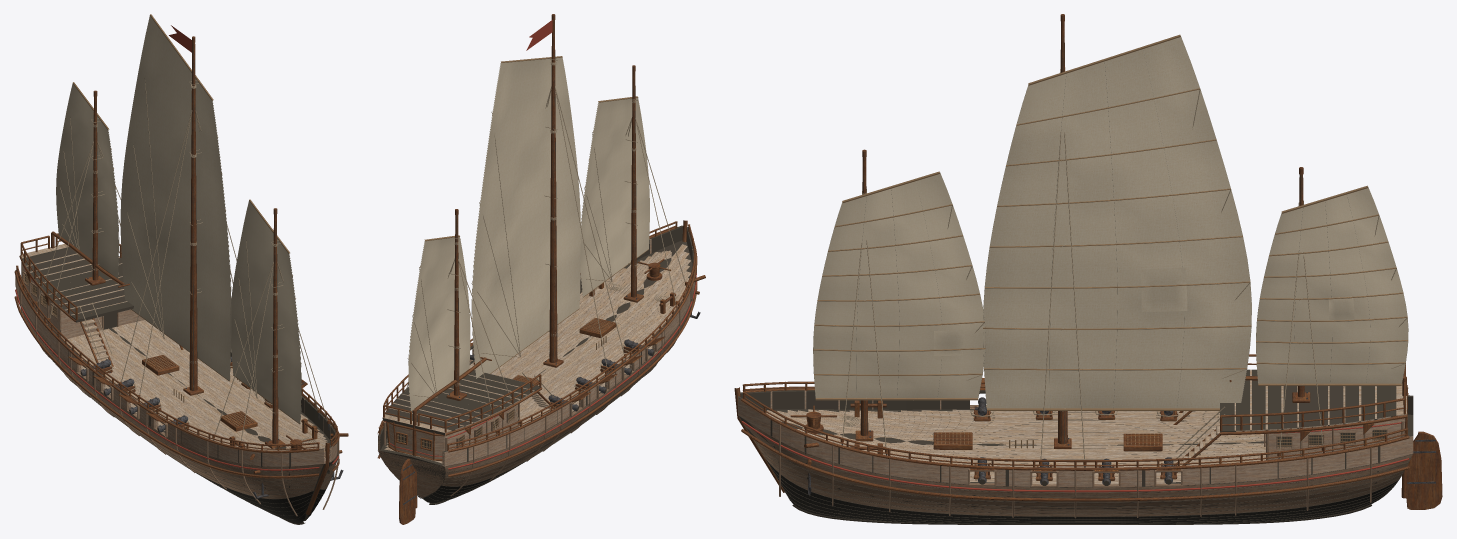
File: fuchuan-lod2.glb
3 renders of one model, left to right at view 1: azimuth 30°, elevation 25°; view 2: azimuth 150°, elevation 25°; view 3: azimuth 270°, elevation 25°, orthographic. The views are drawn at different scales.
Visible parts, largest first — view 1: sail_1, hull, deck, sail_0, sail_2, shadow_deck, deck_fittings, bulwark_rails, mast_timber_1, shadow_hull, sterncastle, mast_timber_0 (+8 smaller); view 2: sail_1, deck, hull, sail_0, sail_2, shadow_deck, deck_fittings, shadow_hull, bulwark_rails, mast_timber_1, mast_timber_0, stern_transom (+9 smaller); view 3: sail_1, hull, sail_0, sail_2, deck, shadow_hull, shadow_deck, bulwark_rails, deck_fittings, rudder_blade, sterncastle, rigging_1.
Part boxes in pixels (left/top/right/bottom): sail_1: left=120, top=14, right=231, bottom=381; hull: left=14, top=270, right=339, bottom=524; deck: left=19, top=244, right=330, bottom=450; sail_0: left=230, top=199, right=301, bottom=424; sail_2: left=56, top=82, right=119, bottom=278; shadow_deck: left=22, top=247, right=133, bottom=322; deck_fittings: left=21, top=262, right=348, bottom=498; bulwark_rails: left=16, top=233, right=338, bottom=452; mast_timber_1: left=189, top=43, right=197, bottom=390; shadow_hull: left=15, top=270, right=337, bottom=521; sterncastle: left=23, top=266, right=144, bottom=339; mast_timber_0: left=272, top=214, right=278, bottom=443; sail_1: left=471, top=56, right=580, bottom=378; deck: left=382, top=244, right=690, bottom=463; hull: left=377, top=220, right=697, bottom=504; sail_0: left=580, top=96, right=649, bottom=297; sail_2: left=407, top=235, right=470, bottom=411; shadow_deck: left=383, top=370, right=540, bottom=435; deck_fittings: left=383, top=259, right=705, bottom=461; shadow_hull: left=378, top=225, right=695, bottom=502; bulwark_rails: left=378, top=221, right=695, bottom=451; mast_timber_1: left=549, top=20, right=557, bottom=362; mast_timber_0: left=631, top=71, right=636, bottom=297; stern_transom: left=388, top=423, right=444, bottom=458; sail_1: left=983, top=34, right=1251, bottom=410; hull: left=734, top=387, right=1413, bottom=524; sail_0: left=813, top=171, right=985, bottom=400; sail_2: left=1256, top=185, right=1408, bottom=386; deck: left=766, top=369, right=1407, bottom=484; shadow_hull: left=738, top=390, right=1413, bottom=523; shadow_deck: left=1220, top=369, right=1396, bottom=432; bulwark_rails: left=742, top=354, right=1408, bottom=467; deck_fittings: left=790, top=385, right=1407, bottom=494; rudder_blade: left=1406, top=431, right=1442, bottom=509; sterncastle: left=1266, top=418, right=1404, bottom=460; rigging_1: left=1039, top=132, right=1086, bottom=473.
Bounding box in the file's own units: 10.4 × 26.65 × 33.55.
13 materials, 8 textured.
